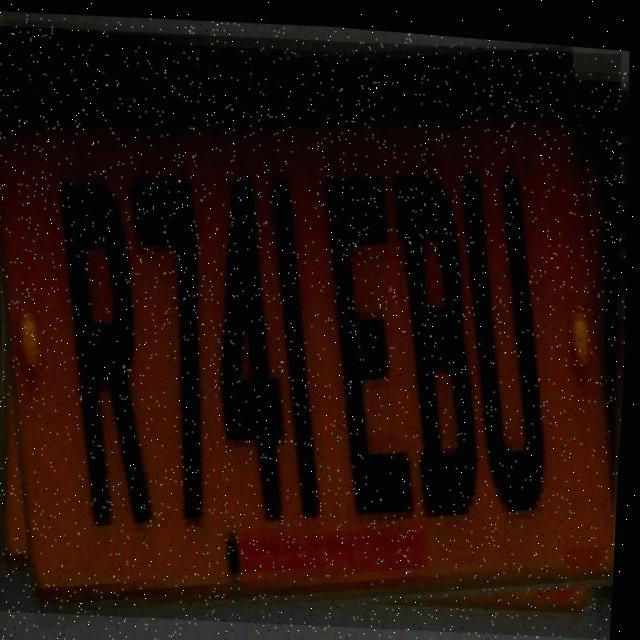LicensePlate: (0, 3, 640, 640)
